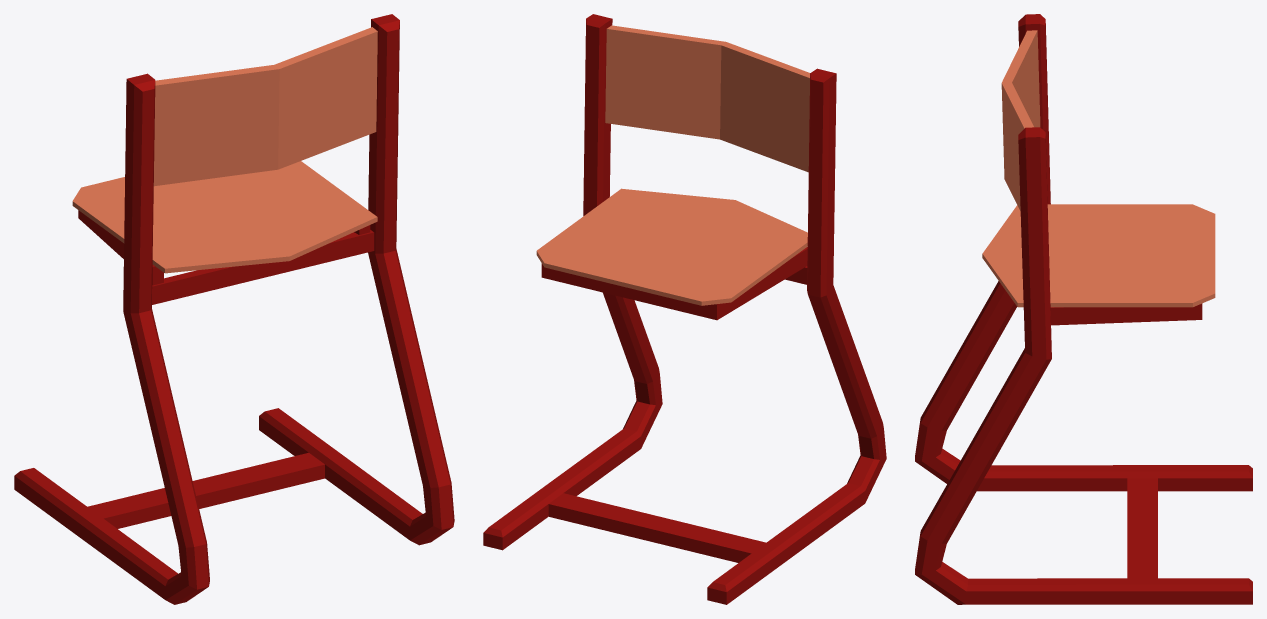
Rendered from VisioChair.fbx.
3 renders of one model, left to right at view 1: azimuth 30°, elevation 25°; view 2: azimuth 150°, elevation 25°; view 3: azimuth 270°, elevation 25°, orthographic. The views are drawn at different scales.
Visible parts, largest first — view 1: Chair; view 2: Chair; view 3: Chair.
Part boxes in pixels (x1,y1,x2,y2): Chair: (14,14,454,604); Chair: (483,14,886,604); Chair: (915,14,1252,604).
Bounding box in the file's own units: 41.93 × 74.71 × 48.67.
